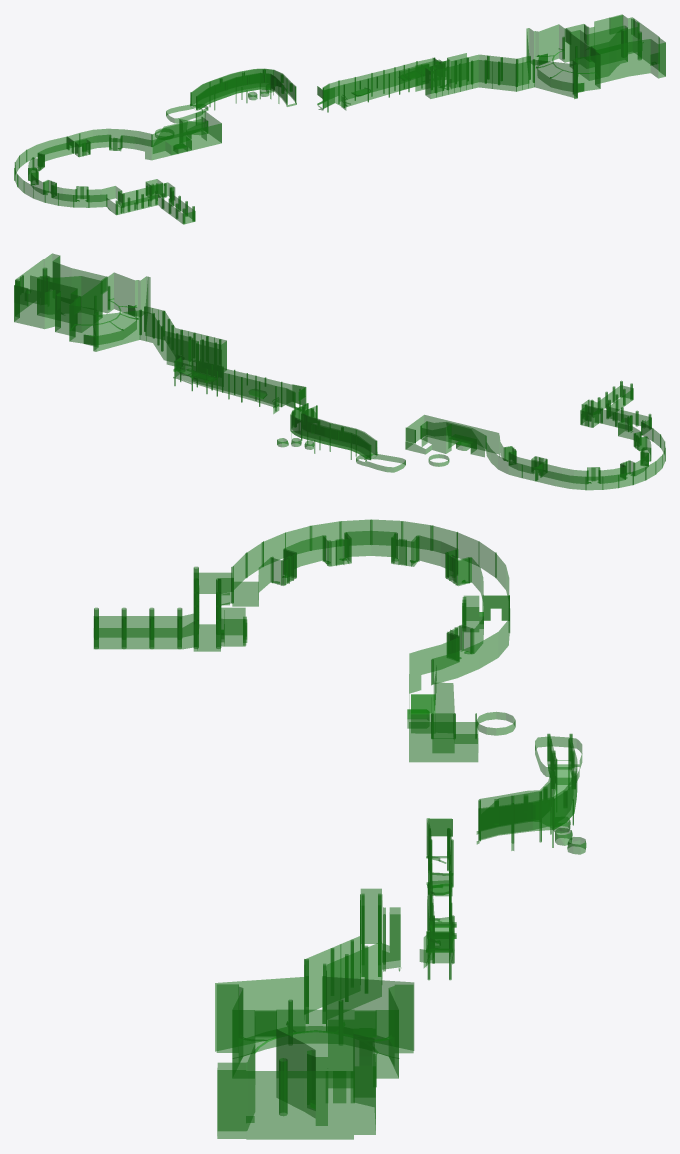
Rendered from wall.obj.
The picture shows the model from 3 angles, top to bottom: view 1: azimuth 30°, elevation 25°; view 2: azimuth 150°, elevation 25°; view 3: azimuth 270°, elevation 25°; orthographic projection. The views are drawn at different scales.
Size of the model in its own units: 503 by 34.36 by 177.
